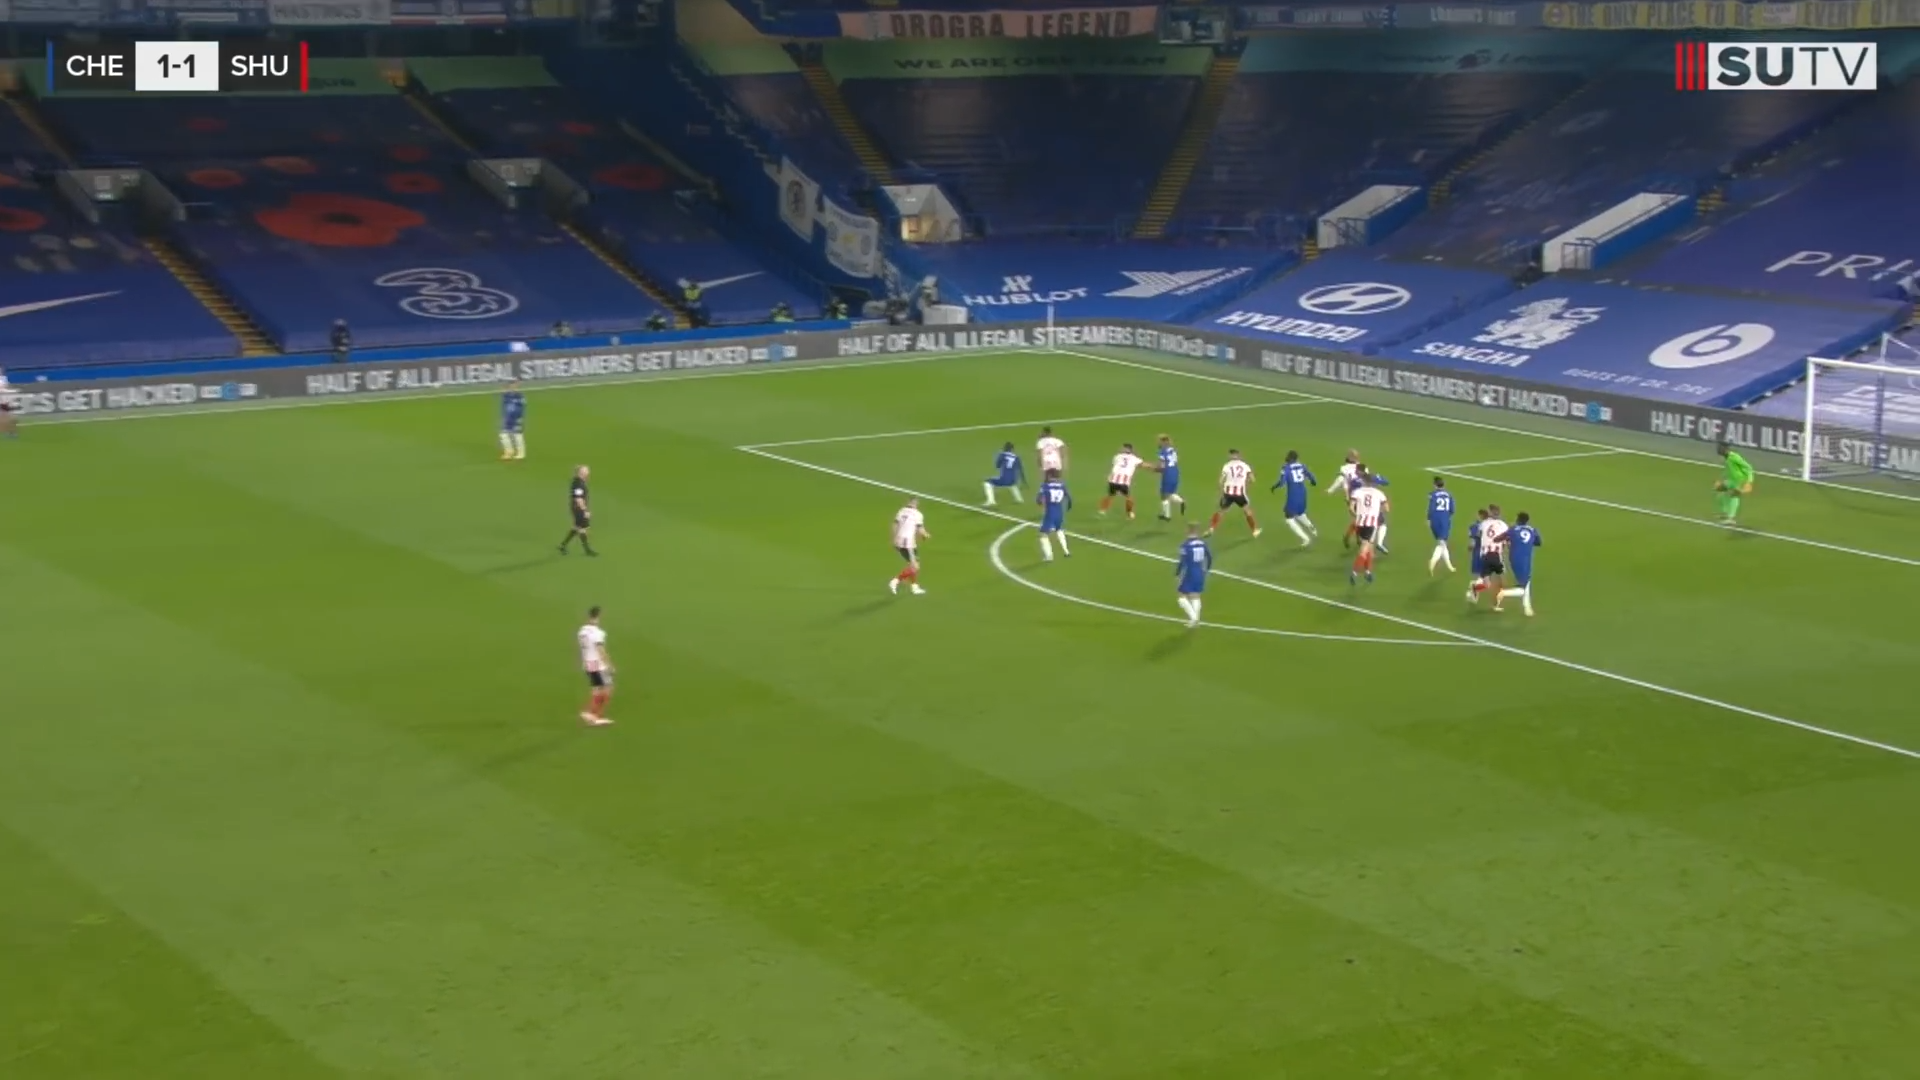Player: (880, 492, 947, 607), (1159, 512, 1219, 637), (1034, 461, 1077, 570)
